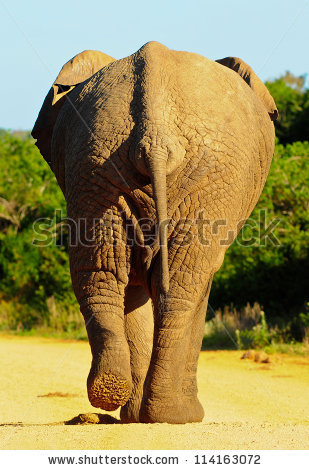elephant: (40, 35, 284, 420)
